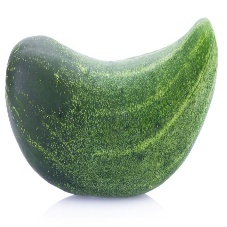cucumber: (7, 17, 220, 199)
